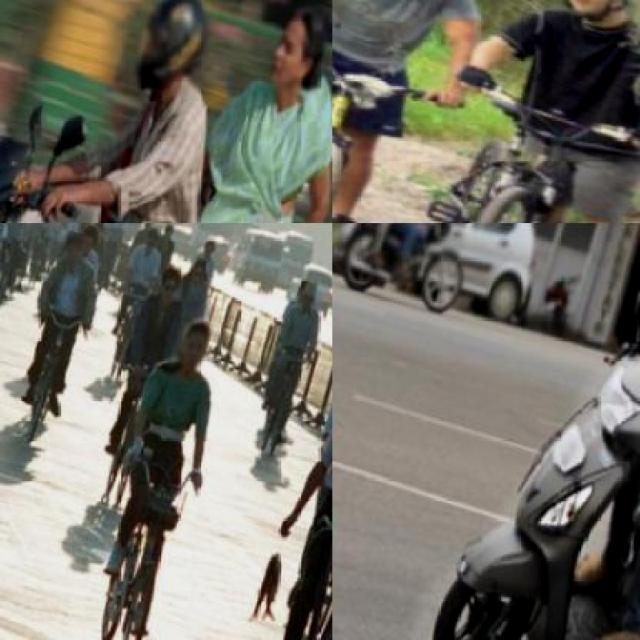With Helmet: (114, 0, 232, 111), (537, 0, 638, 40)
Without Helmet: (249, 0, 330, 115), (163, 312, 217, 378), (56, 234, 92, 278), (152, 264, 186, 310), (296, 281, 321, 314), (138, 226, 162, 260)
